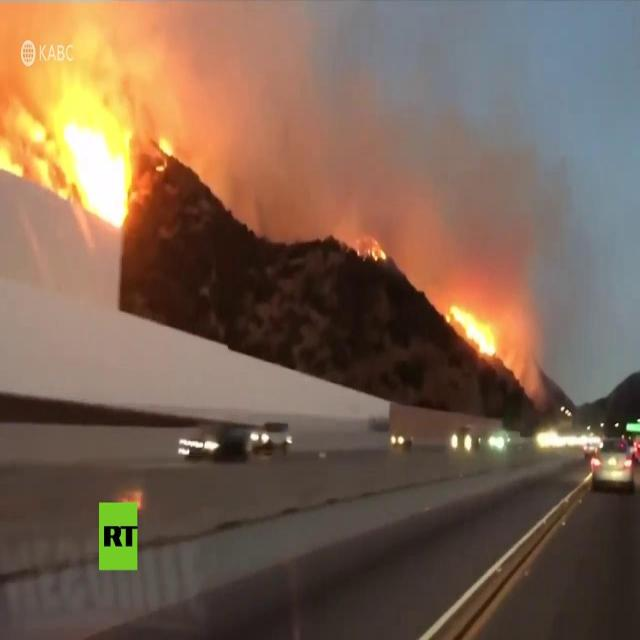Fire: (2, 82, 128, 230), (445, 305, 497, 357), (158, 138, 172, 170), (370, 236, 387, 262)
